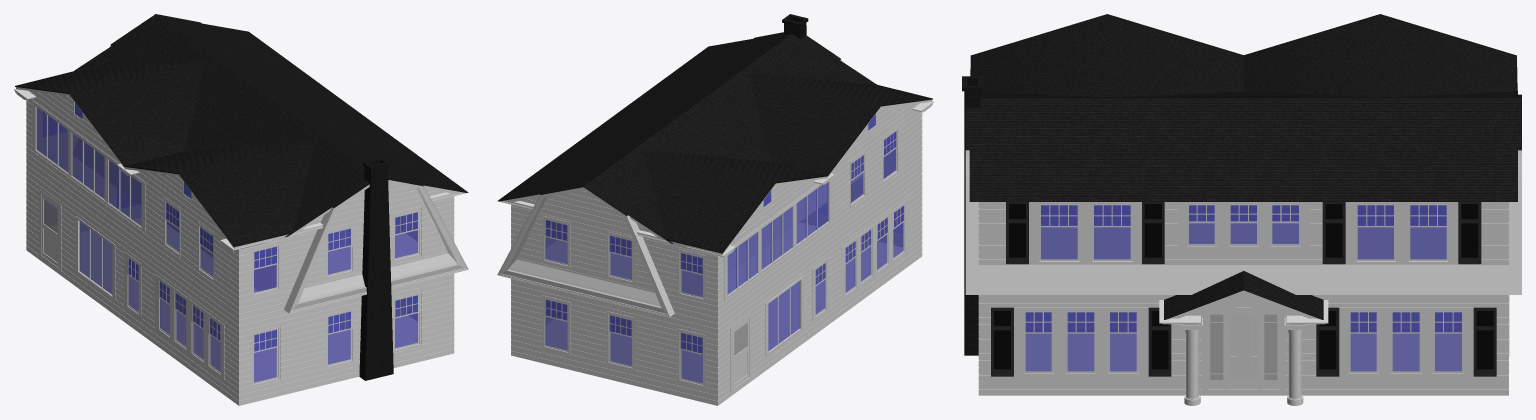
Rendered from LP house fbx.fbx.
3 renders of one model, left to right at view 1: azimuth 30°, elevation 25°; view 2: azimuth 150°, elevation 25°; view 3: azimuth 270°, elevation 25°, orthographic. The views are drawn at different scales.
Parts seen in each view (by area): view 1: pCube79, polySurface21, polySurface20, pCube1, polySurface8 (×8), pCube32, windowtype05, pCube5 (×6), pCube6 (×2), windowtype06, pCube70, pCube39 (+6 smaller); view 2: pCube79, polySurface21, polySurface20, pCube1, polySurface8 (×8), windowtype05, pCube5 (×6), pCube70, pCube6 (×2), windowtype06, pCube39, pCube41 (+6 smaller); view 3: polySurface21, polySurface20, pCube79, pCube1, pCube6 (×3), pCube31, pPlane9 (×3), pCube5 (×2), pPlane8 (×3), pPlane7 (×3), pPlane6 (×2), polySurface8 (×2) (+14 smaller).
Boxes of the visible parts, left/top/right/bottom form: pCube79: left=26, top=91, right=454, bottom=399; polySurface21: left=73, top=14, right=468, bottom=313; polySurface20: left=15, top=59, right=315, bottom=248; pCube1: left=26, top=91, right=453, bottom=400; polySurface8 (×8): left=165, top=201, right=419, bottom=384; pCube32: left=359, top=157, right=393, bottom=380; windowtype05: left=36, top=107, right=141, bottom=226; pCube5 (×6): left=251, top=208, right=421, bottom=387; pCube6 (×2): left=124, top=251, right=224, bottom=379; windowtype06: left=75, top=216, right=115, bottom=300; pCube70: left=26, top=245, right=454, bottom=405; pCube39: left=32, top=101, right=145, bottom=232; pCube79: left=511, top=103, right=922, bottom=400; polySurface21: left=497, top=32, right=876, bottom=317; polySurface20: left=644, top=73, right=932, bottom=255; pCube1: left=511, top=103, right=921, bottom=400; polySurface8 (×8): left=544, top=130, right=897, bottom=385; windowtype05: left=727, top=182, right=828, bottom=295; pCube5 (×6): left=542, top=216, right=705, bottom=388; pCube70: left=511, top=252, right=922, bottom=405; pCube6 (×2): left=812, top=198, right=908, bottom=321; windowtype06: left=765, top=275, right=803, bottom=356; pCube39: left=724, top=179, right=832, bottom=301; pCube41: left=732, top=318, right=749, bottom=388; polySurface21: left=965, top=91, right=1521, bottom=294; polySurface20: left=970, top=14, right=1517, bottom=97; pCube79: left=978, top=202, right=1508, bottom=388; pCube1: left=979, top=202, right=1508, bottom=389; pCube6 (×3): left=1014, top=202, right=1473, bottom=376; pCube31: left=1159, top=271, right=1328, bottom=405; pPlane9 (×3): left=1107, top=204, right=1464, bottom=372; pCube5 (×2): left=1029, top=202, right=1458, bottom=264; pPlane8 (×3): left=1065, top=204, right=1421, bottom=372; pPlane7 (×3): left=1023, top=204, right=1378, bottom=372; pPlane6 (×2): left=1092, top=204, right=1448, bottom=260; polySurface8 (×2): left=1039, top=204, right=1395, bottom=260.
Size of the model in its own units: 40.67 by 31.56 by 60.49.
